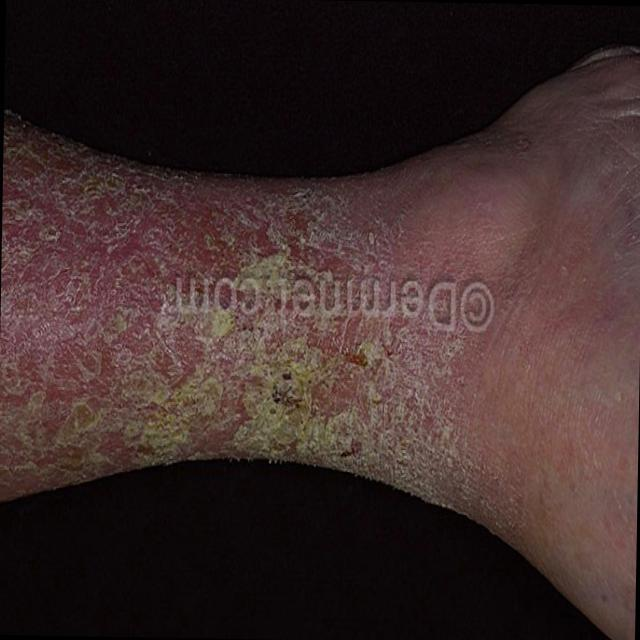Eczema: (0, 127, 460, 512)
